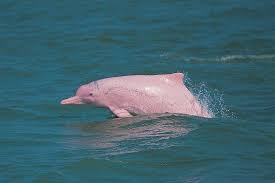fin: (55, 69, 239, 128)
